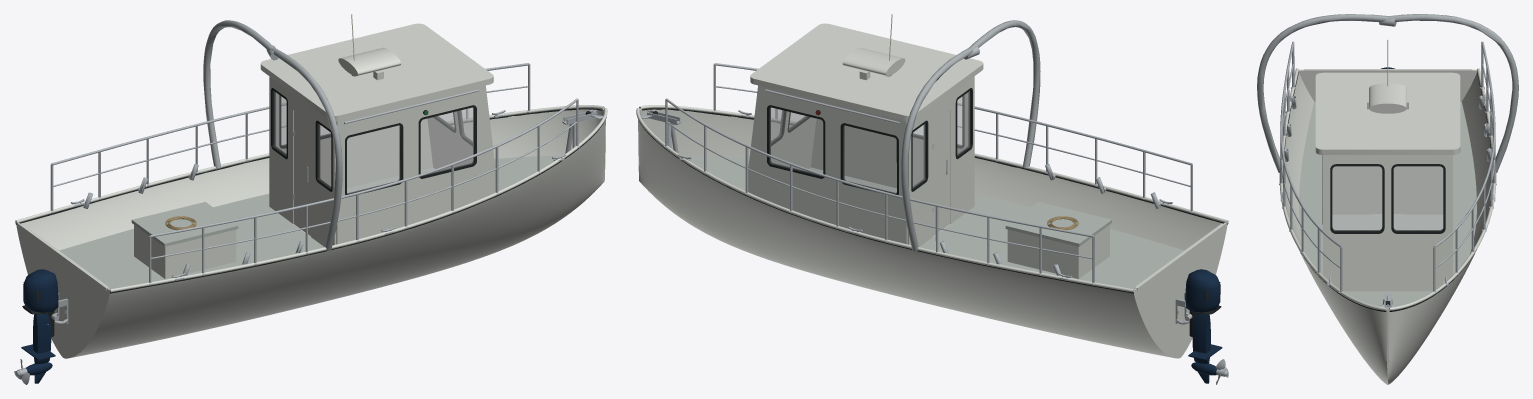
Rendered from fishing-boat.glb.
3 renders of one model, left to right at view 1: azimuth 30°, elevation 25°; view 2: azimuth 150°, elevation 25°; view 3: azimuth 270°, elevation 25°, orthographic. The views are drawn at different scales.
Parts seen in each view (by area): view 1: Closed navigation radar pod, Fish locker seated lid, Anchor retained roller pin, Working pilothouse raked front opening 1 finite glazing, Anchor rolling cylinder, Working gantry upright 1, Working outboard finite anti-ventilation plate; view 2: Closed navigation radar pod, Fish locker seated lid, Anchor retained roller pin, Working pilothouse raked front opening 1 finite glazing, Anchor rolling cylinder, Working gantry upright 1, Working outboard finite anti-ventilation plate; view 3: Closed navigation radar pod, Fish locker seated lid, Working pilothouse raked front opening 1 finite glazing, Anchor retained roller pin, Working gantry upright 1, Anchor rolling cylinder.
Part boxes in pixels (left/top/right/bottom): Closed navigation radar pod: left=15, top=23, right=607, bottom=358; Fish locker seated lid: left=59, top=155, right=561, bottom=288; Anchor retained roller pin: left=14, top=45, right=603, bottom=384; Working pilothouse raked front opening 1 finite glazing: left=274, top=91, right=473, bottom=193; Anchor rolling cylinder: left=15, top=88, right=606, bottom=336; Working gantry upright 1: left=54, top=20, right=342, bottom=324; Working outboard finite anti-ventilation plate: left=21, top=269, right=58, bottom=383; Closed navigation radar pod: left=636, top=23, right=1228, bottom=358; Fish locker seated lid: left=682, top=155, right=1184, bottom=288; Anchor retained roller pin: left=640, top=46, right=1228, bottom=384; Working pilothouse raked front opening 1 finite glazing: left=770, top=91, right=969, bottom=193; Anchor rolling cylinder: left=638, top=88, right=1228, bottom=336; Working gantry upright 1: left=901, top=20, right=1189, bottom=324; Working outboard finite anti-ventilation plate: left=1185, top=269, right=1222, bottom=383; Closed navigation radar pod: left=1279, top=68, right=1496, bottom=384; Fish locker seated lid: left=1299, top=101, right=1476, bottom=306; Working pilothouse raked front opening 1 finite glazing: left=1332, top=166, right=1442, bottom=230; Anchor retained roller pin: left=1279, top=18, right=1496, bottom=311; Working gantry upright 1: left=1257, top=14, right=1518, bottom=172; Anchor rolling cylinder: left=1283, top=71, right=1492, bottom=311.
Size of the model in its own units: 8.71 by 4.14 by 3.48.
11 materials, 6 textured.
